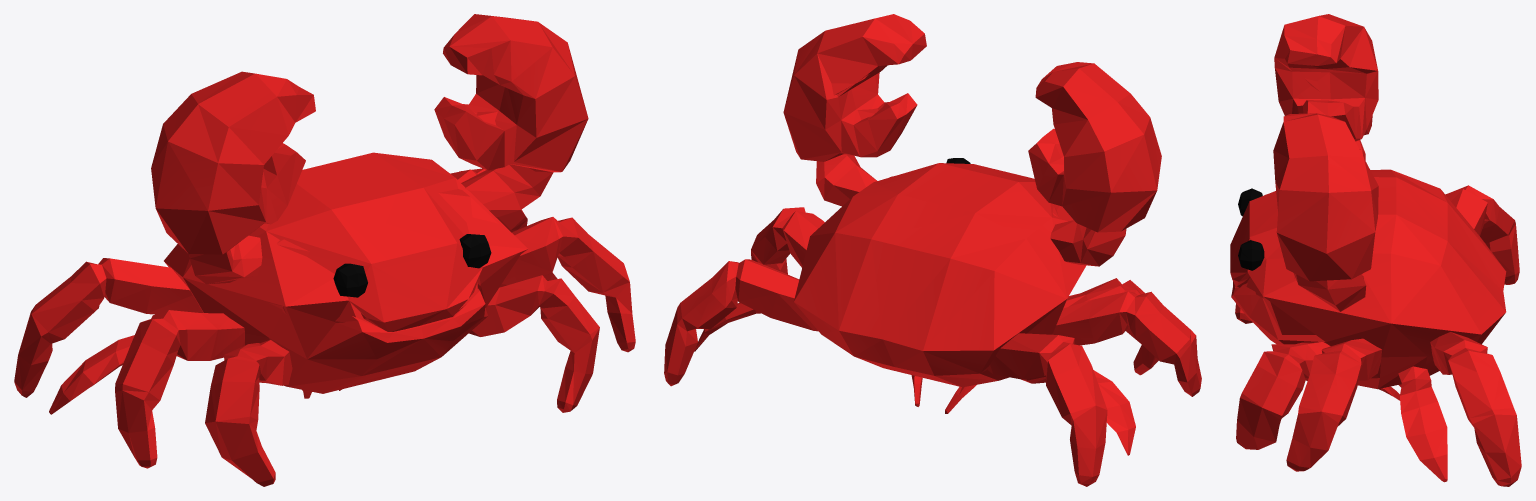
File: Crab.glb
The picture shows the model from 3 angles, left to right: view 1: azimuth 30°, elevation 25°; view 2: azimuth 150°, elevation 25°; view 3: azimuth 270°, elevation 25°; orthographic projection. The views are drawn at different scales.
Visible parts, largest first — view 1: Crab; view 2: Crab; view 3: Crab.
Boxes of the visible parts, x1=… form: Crab: x1=14, y1=14, x2=635, y2=486; Crab: x1=664, y1=14, x2=1201, y2=486; Crab: x1=1230, y1=14, x2=1521, y2=486.
Size of the model in its own units: 1 by 0.7383 by 0.5879.
